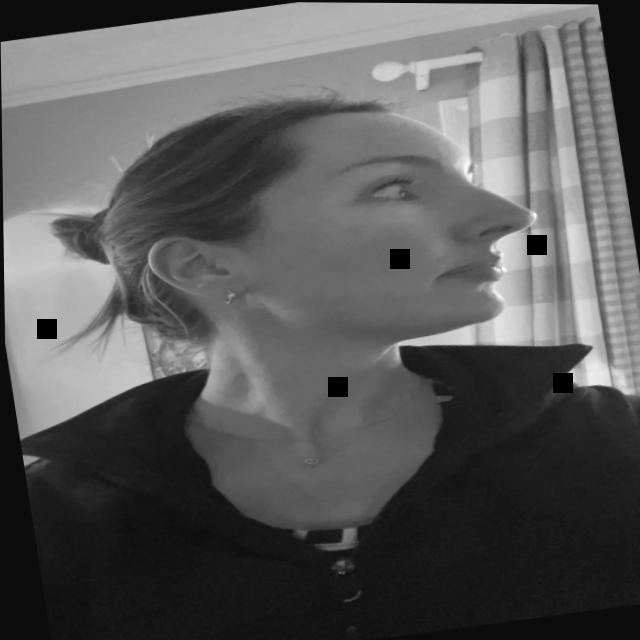NO-Mask: (81, 76, 546, 423)
